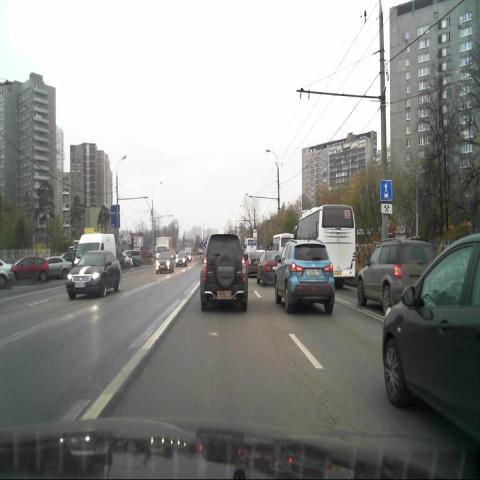5_14: (380, 180, 392, 200)
